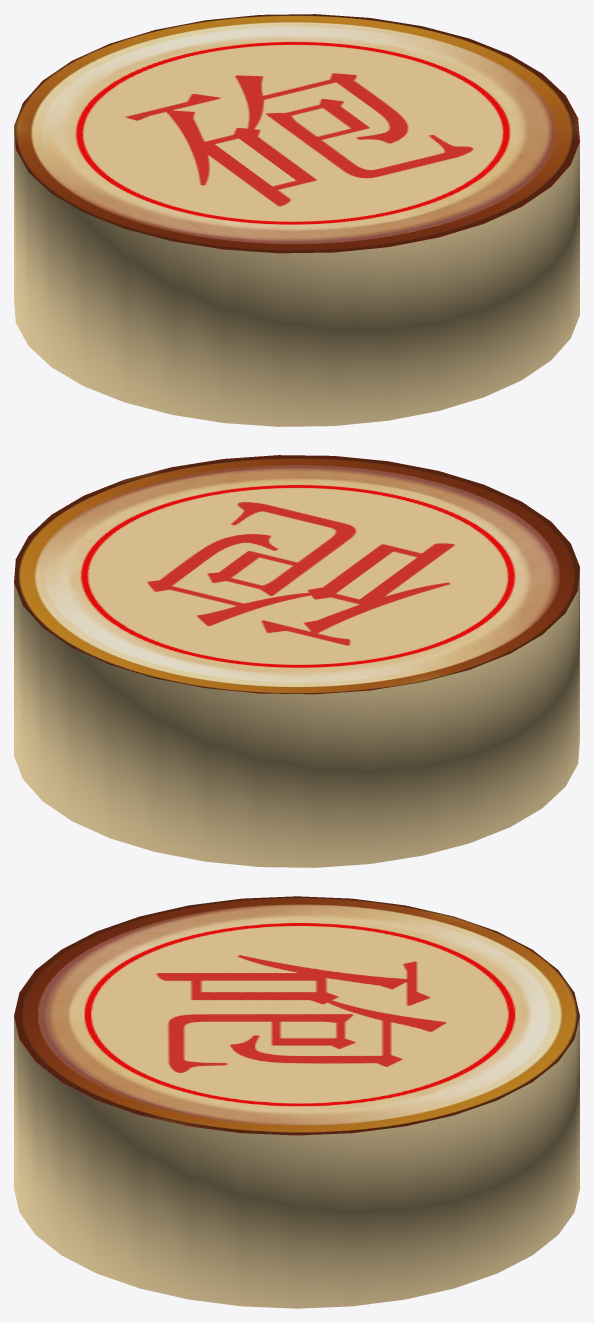
Rendered from phao_do.fbx.
The picture shows the model from 3 angles, top to bottom: view 1: azimuth 30°, elevation 25°; view 2: azimuth 150°, elevation 25°; view 3: azimuth 270°, elevation 25°; orthographic projection.
Parts seen in each view (by area): view 1: Cylinder.013; view 2: Cylinder.013; view 3: Cylinder.013.
Boxes of the visible parts, x1,y1,x2,y2 form: Cylinder.013: (14,14,579,426); Cylinder.013: (14,455,579,867); Cylinder.013: (14,896,579,1308).
Size of the model in its own units: 200 by 67.52 by 200.
